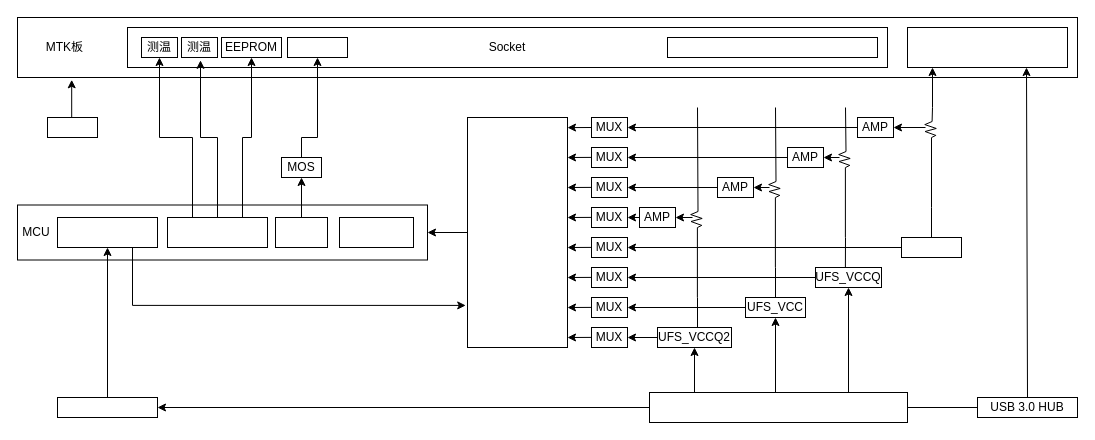
This 1095x440 diagram has some shape labels left out. Here are the shapes that lost their labels. From the top down, the centre of each, then its label:
At point 317,47: "加热电阻".
At point 772,47: "UFS".
At point 987,47: "MTK CPU".
At point 72,127: "ID电阻".
At point 107,232: "SPI".
At point 217,232: "I2C".
At point 301,232: "温控".
At point 376,232: "GPIO".
At point 517,232: "ADC".
At point 931,247: "MTK_VCC".
At point 107,407: "USB 转 SPI".
At point 778,407: "DPT".
